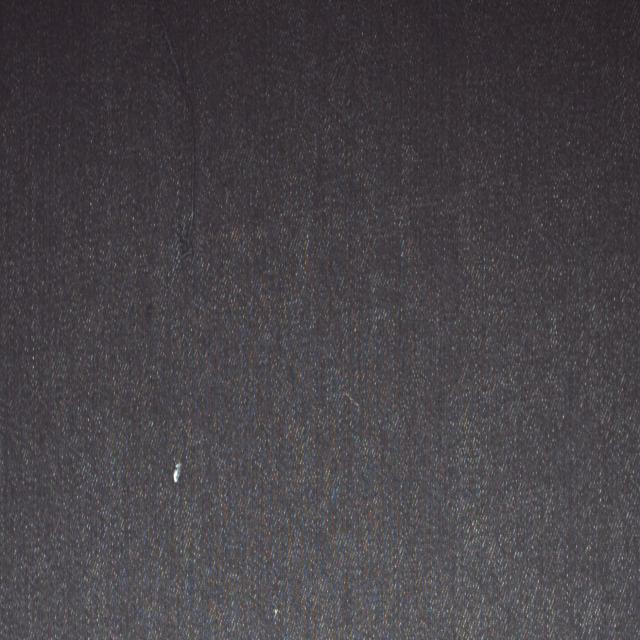Knot: (173, 463, 182, 484)
